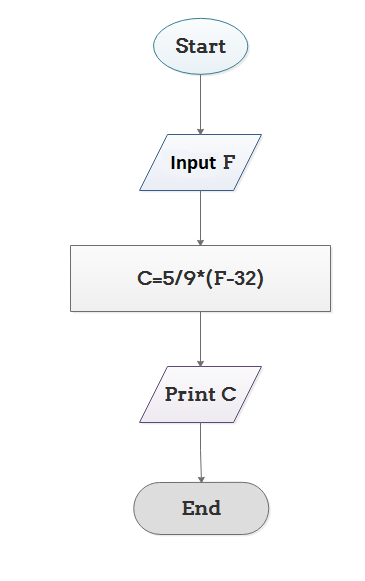arrow: (194, 70, 208, 138), (195, 418, 206, 485), (195, 187, 207, 246), (195, 309, 206, 369)
data: (135, 362, 267, 426), (135, 132, 262, 193)
process: (66, 241, 335, 316)
terminator: (131, 478, 270, 537), (151, 13, 252, 77)
text: (133, 267, 269, 291), (170, 34, 237, 57), (162, 385, 239, 405), (167, 153, 239, 173), (178, 498, 222, 518)
